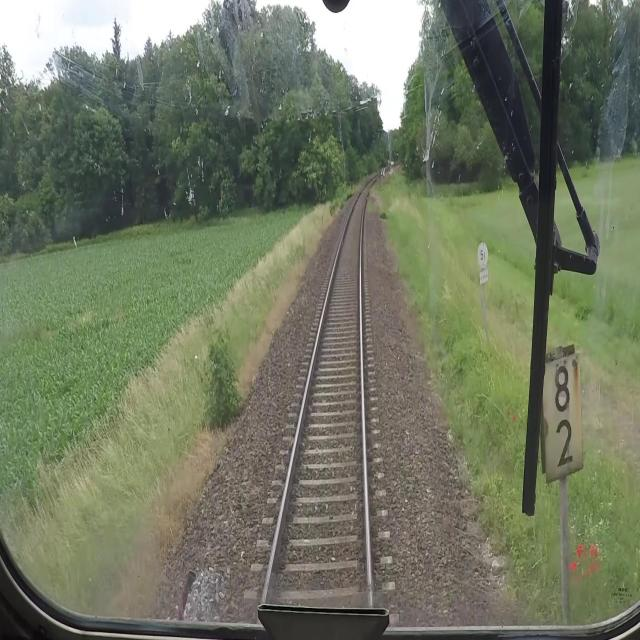rail-track: (270, 173, 380, 585)
